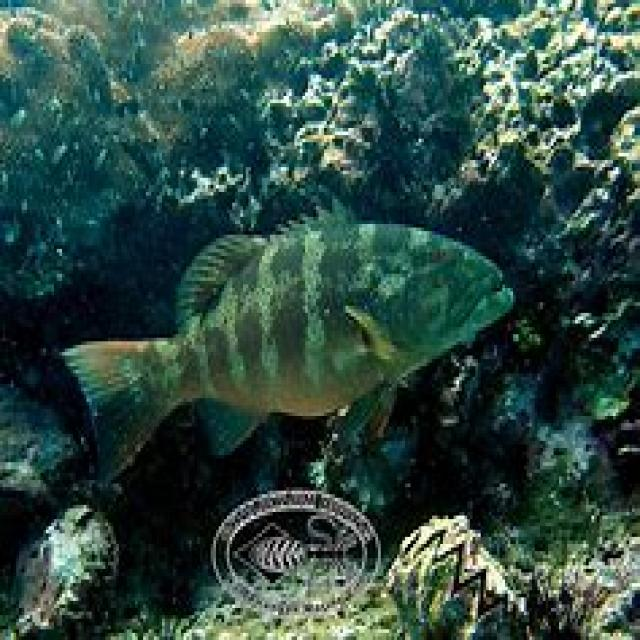Plectropomus-leopardus: (59, 195, 532, 489)
